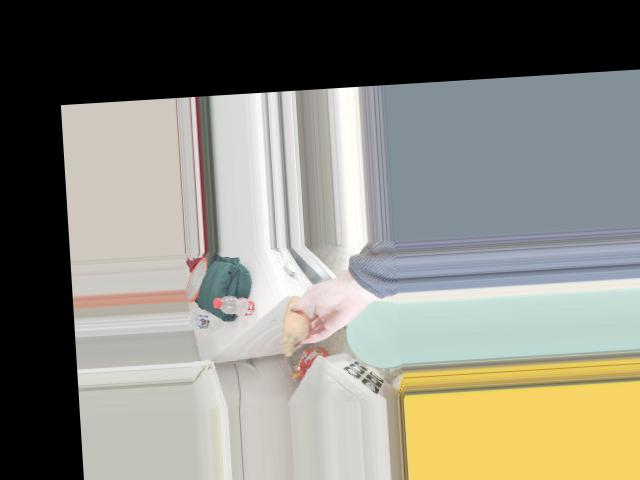sweet_potato: (280, 298, 308, 345)
